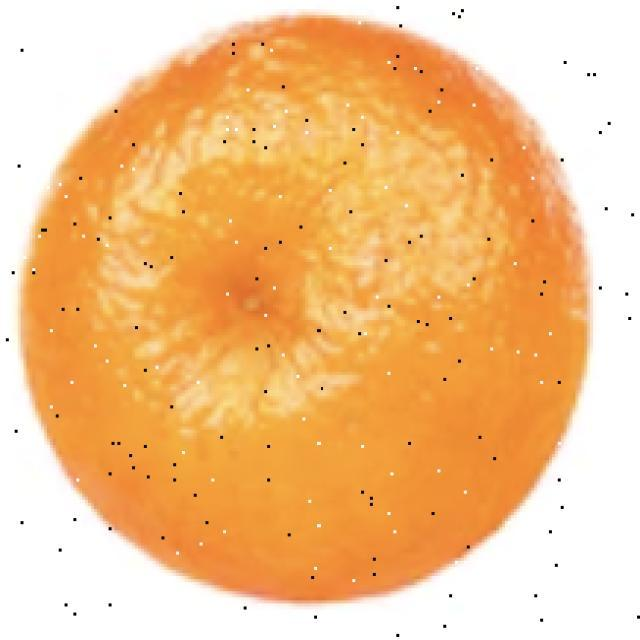Orange: (18, 12, 591, 603)
